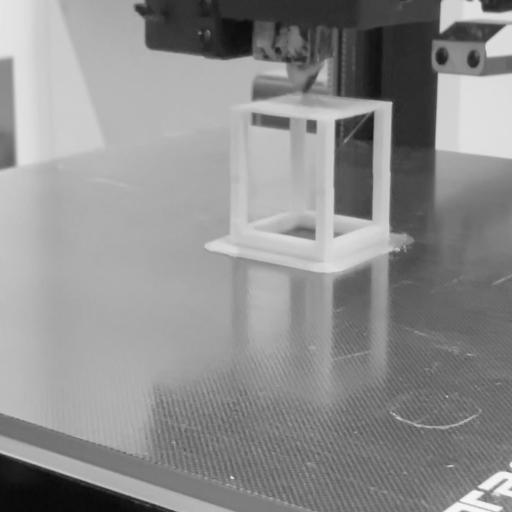spaghetti_and_stringing: (338, 111, 374, 151)
